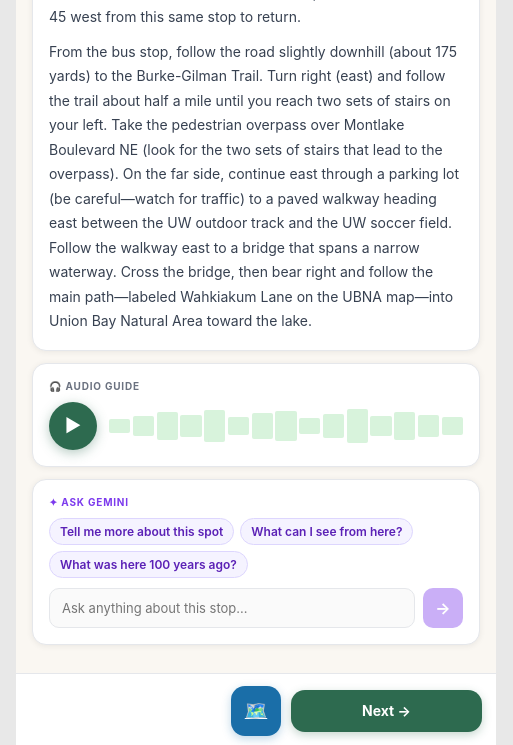
it: WalkPage › navigating back with Prev returns to previous stop
The width and height of the screenshot is (513, 745).
(page scrolled)
Step 1. Click the button with aria-label "Next stop" → [386, 711], box [291, 690, 482, 732]
(page scrolled)
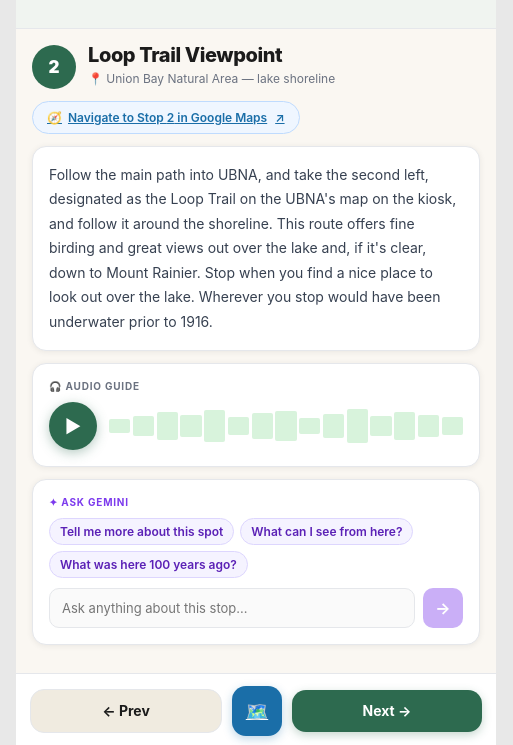
expect the heading "Loop Trail Viewpoint" is shown: met, box [88, 43, 282, 67]
Step 2. Click the button with aria-label "Previous stop" → [126, 711], box [30, 689, 222, 733]
(page scrolled)
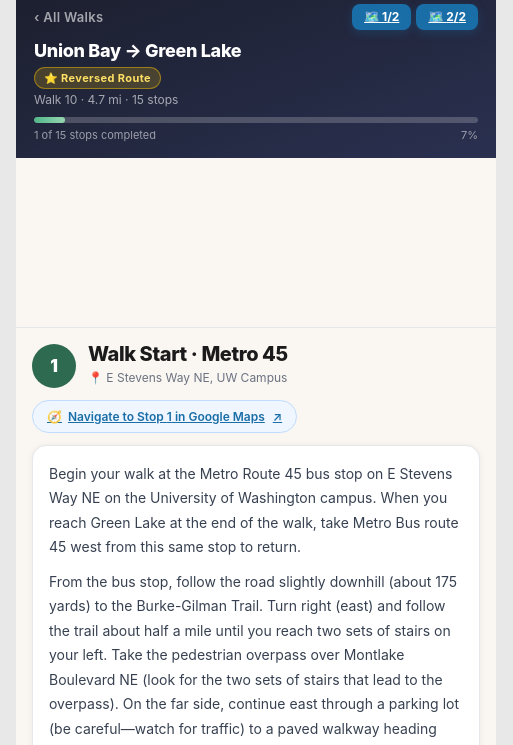
expect the heading "Walk Start · Metro 45" is shown: met, box [88, 342, 288, 366]
